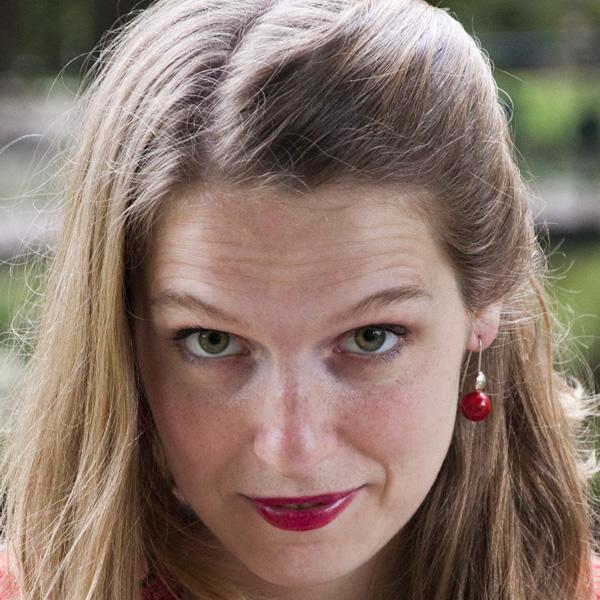Eyes: (162, 317, 260, 375), (321, 317, 414, 368)
